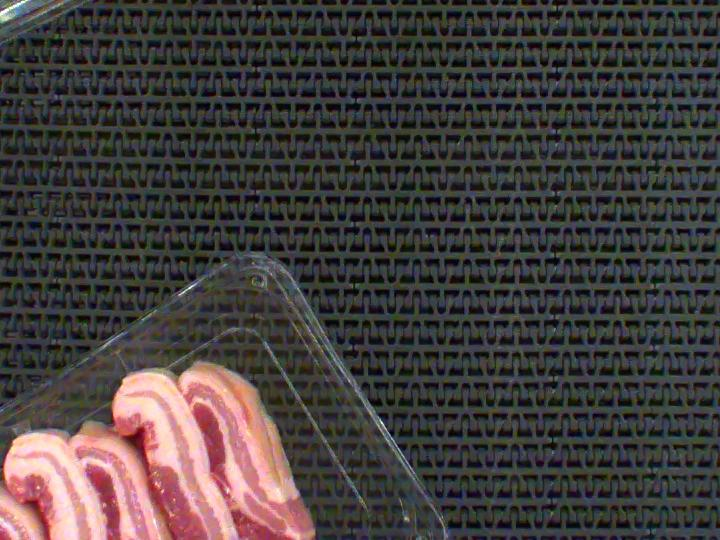packaging-error: (0, 420, 38, 438)
